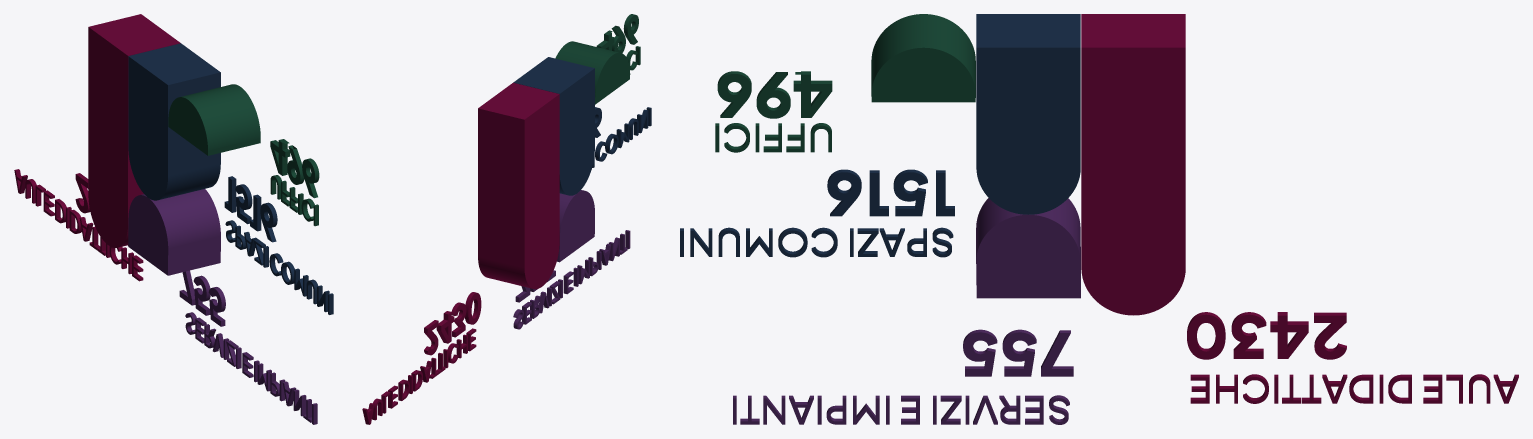
Rendered from padiglione.obj.
The picture shows the model from 3 angles, left to right: view 1: azimuth 30°, elevation 25°; view 2: azimuth 150°, elevation 25°; view 3: azimuth 270°, elevation 25°; orthographic projection. The views are drawn at different scales.
Parts seen in each view (by area): view 1: Padiglione1prova4; view 2: Padiglione1prova4; view 3: Padiglione1prova4.
Part boxes in pixels (x1,y1,x2,y2): Padiglione1prova4: (14,14,333,424); Padiglione1prova4: (362,14,651,424); Padiglione1prova4: (680,14,1518,424).
Bounding box in the file's own units: 27 × 129 × 262.
